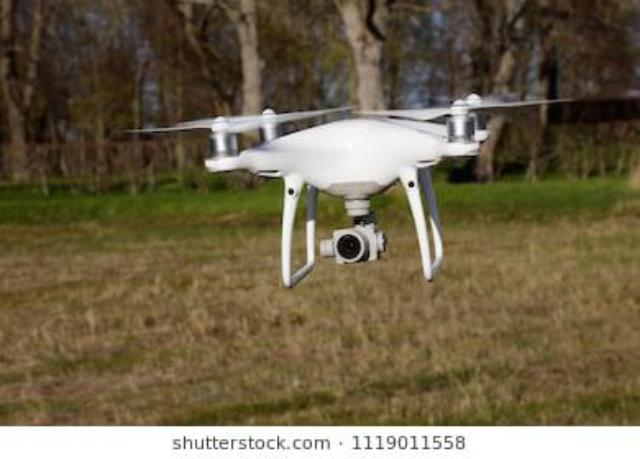drone: (105, 68, 640, 308)
